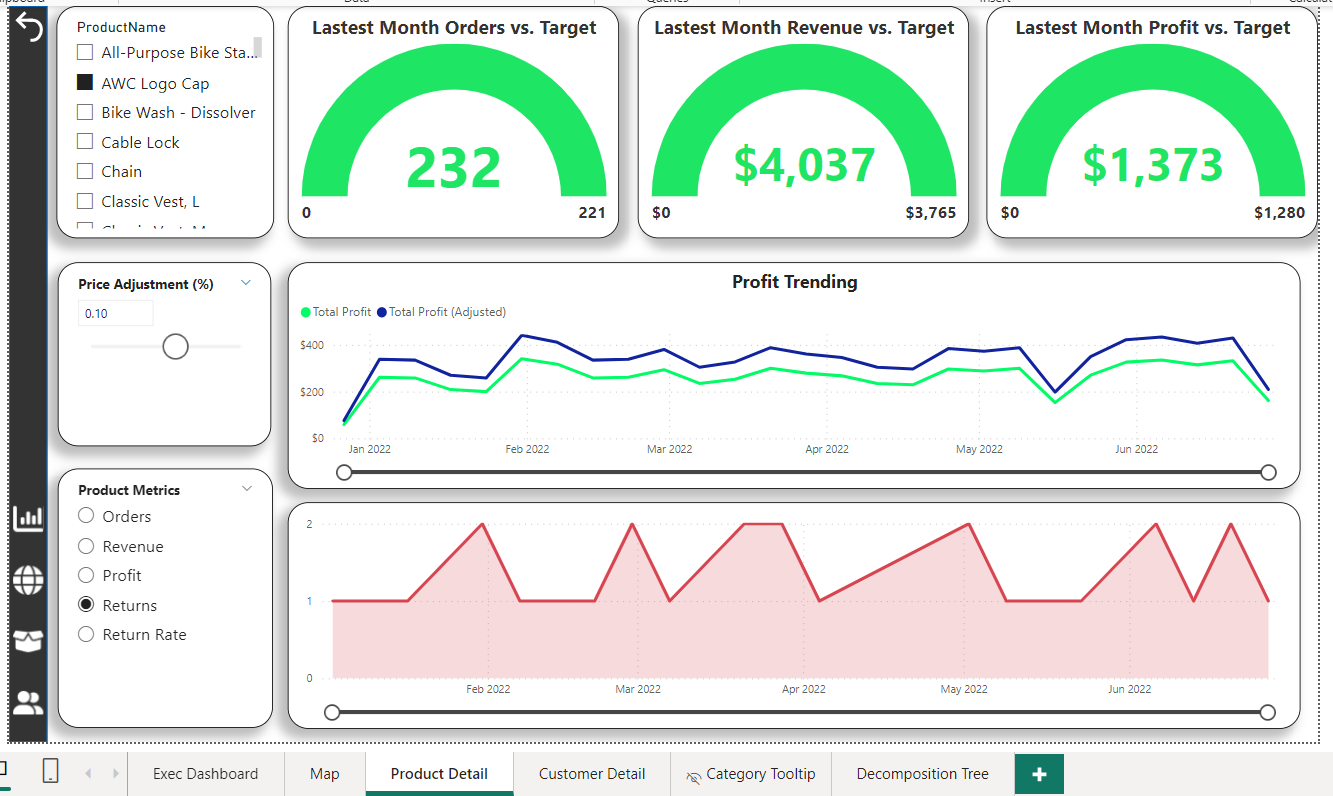

The dashboard page shown, as its layout file describes it:
{"tool":"powerbi","page":{"name":"Product Detail","canvas":[1280,720],"ordinal":5},"visuals":[{"type":"slicer","fields":{"Values":["Product Lookup.ProductName"]},"box":[46.2,0,212.5,227.5],"z":0},{"type":"gauge","title":"Lastest Month Orders vs. Target","fields":{"Y":["Measure Table.Total Orders"],"MaxValue":["Measure Table.Orders Target"]},"box":[272.5,0,323.8,227.5],"z":1000},{"type":"shape","title":"Left Nav Background","box":[0,0,37.5,720],"z":2000},{"type":"gauge","title":"Lastest Month Revenue vs. Target","fields":{"Y":["Measure Table.Revenue (DAX)"],"MaxValue":["Measure Table.Revenue Target"]},"box":[614.4,0,323.8,227.5],"z":3000},{"type":"gauge","title":"Lastest Month Profit vs. Target","fields":{"Y":["Measure Table.Total Profit"],"MaxValue":["Measure Table.Profit Target"]},"box":[956.2,0,323.8,227.5],"z":4000},{"type":"lineChart","title":"Profit Trending","fields":{"Category":["Calendar Lookup.Date Hierarchy.Start of Year","Calendar Lookup.Date Hierarchy.Start of Month","Calendar Lookup.Date Hierarchy.Start of Week","Calendar Lookup.Date Hierarchy.Date"],"Y":["Measure Table.Total Profit","Measure Table.Total Profit (Adjusted)"]},"box":[272.5,250,990,221.2],"z":5000},{"type":"areaChart","title":"Return Trending","fields":{"Y":["Measure Table.Total Returns"],"Category":["Calendar Lookup.Date Hierarchy.Start of Year","Calendar Lookup.Date Hierarchy.Start of Month","Calendar Lookup.Date Hierarchy.Start of Week","Calendar Lookup.Date Hierarchy.Date"]},"box":[272.5,485,990,221.2],"z":6000},{"type":"actionButton","box":[0,482,37.5,40],"z":7000},{"type":"actionButton","box":[0,541.6,37.5,40],"z":8000},{"type":"actionButton","box":[0,601.2,37.5,40],"z":9000},{"type":"actionButton","box":[0,660.7,37.5,40],"z":10000},{"type":"actionButton","box":[0,0,100,40],"z":11000},{"type":"slicer","fields":{"Values":["Price Adjustment (%).Price Adjustment (%)"]},"box":[47.5,250,208.8,180],"z":12000},{"type":"slicer","fields":{"Values":["Product metrics selection.Product metrics selection"]},"box":[47.5,452.5,210,253.8],"z":13000}]}

Visuals, with their boxes in screenshot pixels (x1, y1, x2, y2):
slicer - Product Lookup.ProductName: (left=51, top=0, right=269, bottom=234)
"Lastest Month Orders vs. Target" gauge: (left=283, top=0, right=616, bottom=234)
"Left Nav Background" shape: (left=3, top=0, right=42, bottom=739)
"Lastest Month Revenue vs. Target" gauge: (left=634, top=0, right=967, bottom=234)
"Lastest Month Profit vs. Target" gauge: (left=985, top=0, right=1318, bottom=234)
"Profit Trending" lineChart: (left=283, top=257, right=1300, bottom=484)
"Return Trending" areaChart: (left=283, top=498, right=1300, bottom=725)
actionButton: (left=3, top=495, right=42, bottom=536)
actionButton: (left=3, top=556, right=42, bottom=597)
actionButton: (left=3, top=617, right=42, bottom=659)
actionButton: (left=3, top=679, right=42, bottom=720)
actionButton: (left=3, top=0, right=106, bottom=41)
slicer - Price Adjustment (%).Price Adjustment (%): (left=52, top=257, right=267, bottom=442)
slicer - Product metrics selection.Product metrics selection: (left=52, top=465, right=268, bottom=725)
